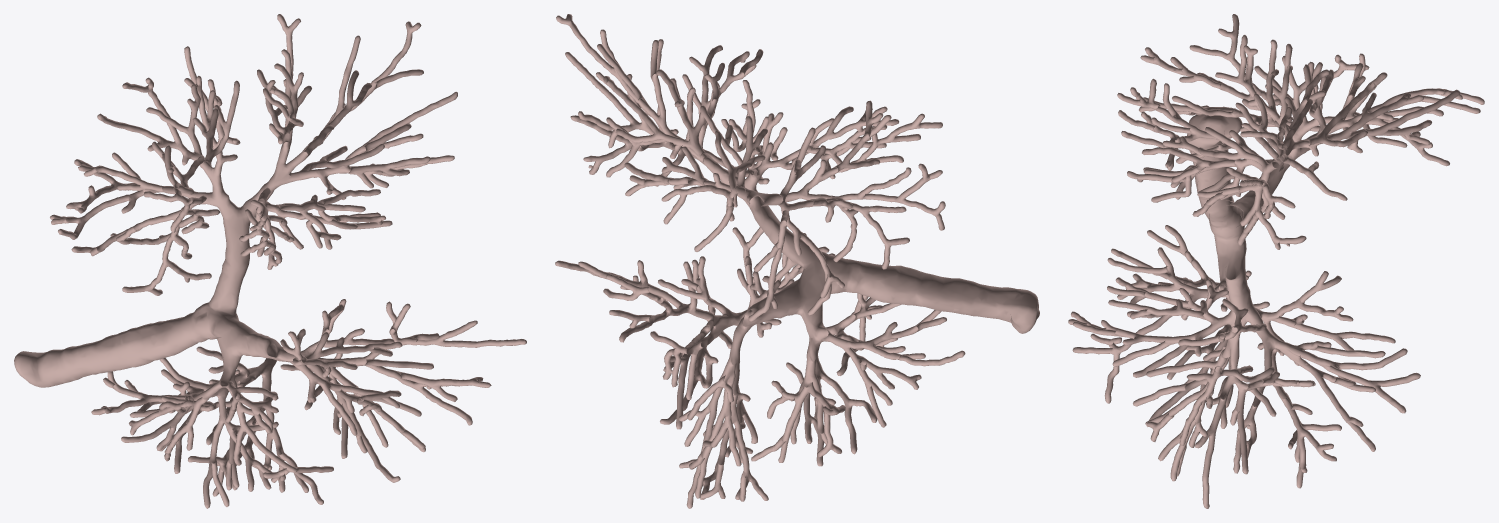
File: central-airway.glb
3 renders of one model, left to right at view 1: azimuth 30°, elevation 25°; view 2: azimuth 150°, elevation 25°; view 3: azimuth 270°, elevation 25°, orthographic. The views are drawn at different scales.
Parts seen in each view (by area): view 1: world; view 2: world; view 3: world.
Boxes of the visible parts, x1,y1,x2,y2 form: world: (14, 14, 526, 508); world: (555, 14, 1039, 508); world: (1068, 14, 1484, 508).
Bounding box in the file's own units: 2.6 × 2.24 × 1.89.
